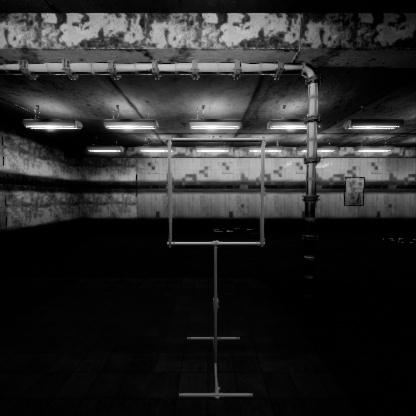gate: (168, 169, 274, 278)
